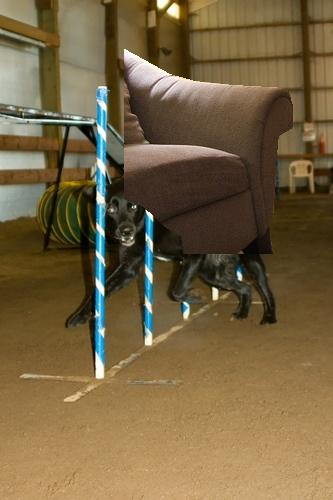tampered: (125, 50, 293, 254)
